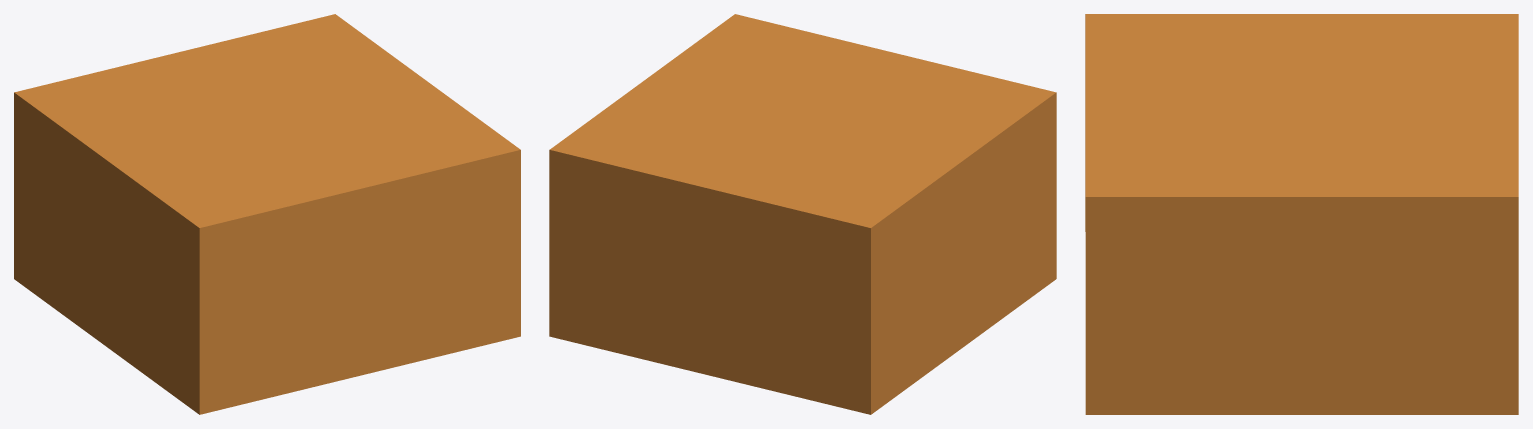
3 renders of one model, left to right at view 1: azimuth 30°, elevation 25°; view 2: azimuth 150°, elevation 25°; view 3: azimuth 270°, elevation 25°, orthographic. The views are drawn at different scales.
Parts seen in each view (by area): view 1: CORNER-B-88-p4; view 2: CORNER-B-88-p4; view 3: CORNER-B-88-p4.
Boxes of the visible parts, box(x1,y1,x2,y2) form: CORNER-B-88-p4: box(14, 14, 520, 414); CORNER-B-88-p4: box(549, 14, 1056, 414); CORNER-B-88-p4: box(1085, 14, 1518, 414).
Size of the model in its own units: 0.09 by 0.05 by 0.09.
